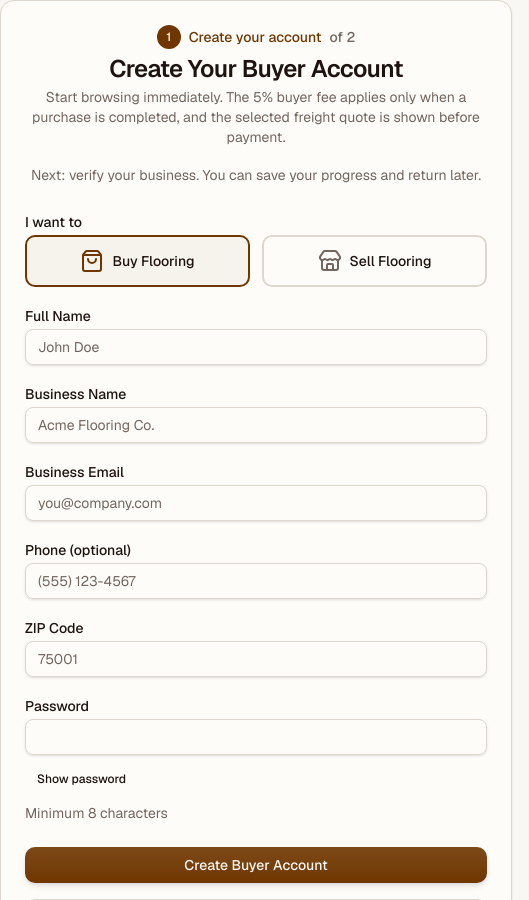
Test: RegisterForm › shows validation error for password shorter than 8 characters
Type "Jane Doe" into the field labelled "Full Name" at [256, 347], box [25,329,487,365]
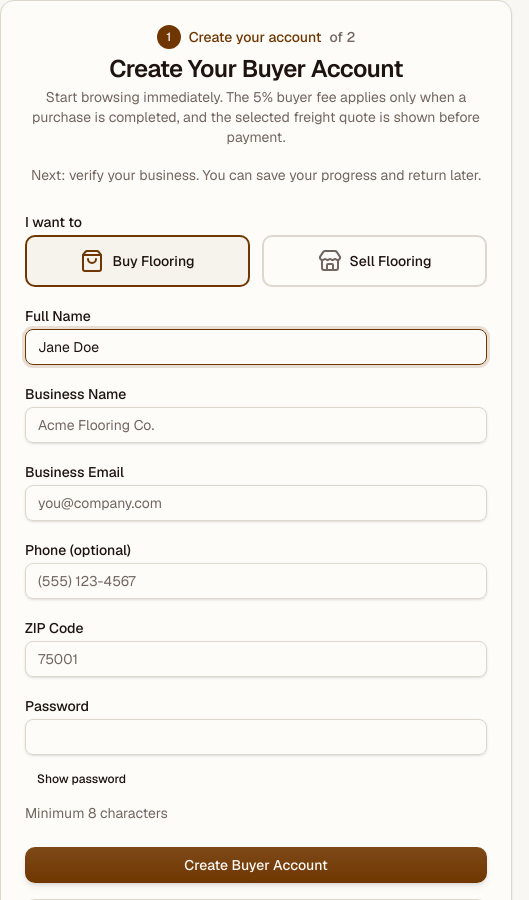
Type "Doe Lumber Co" into the field labelled "Business Name" at [256, 425], box [25,407,487,443]
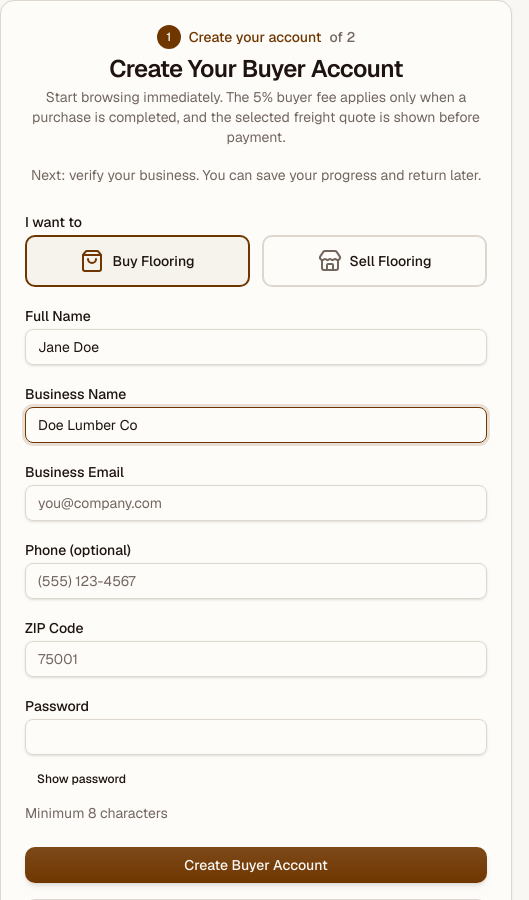
Type "jane@example.com" into the field labelled "Business Email" at [256, 503], box [25,485,487,521]
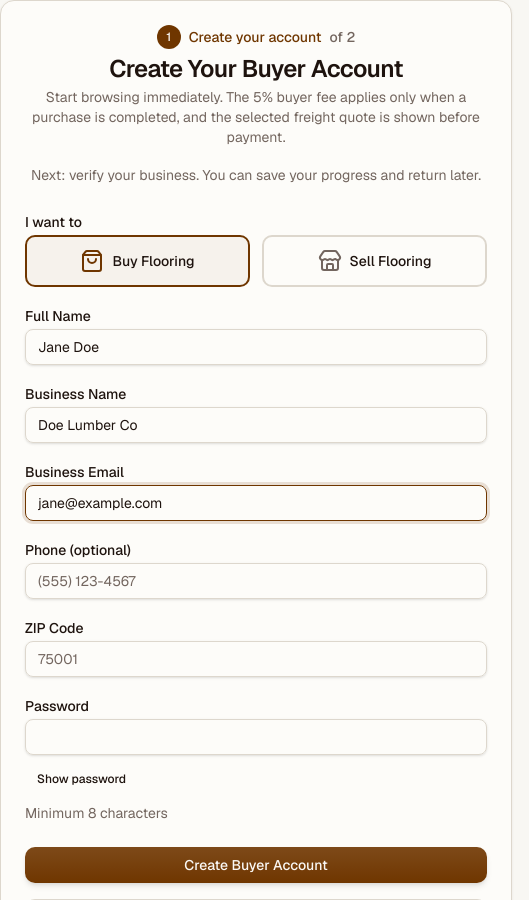
Type "97201" into the field labelled "ZIP Code" at [256, 659], box [25,641,487,677]
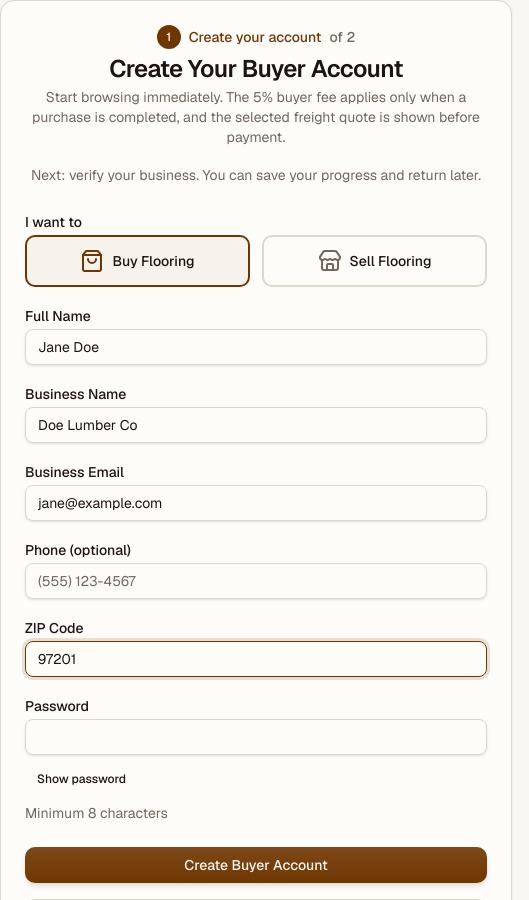
Type "short" into the password field labelled "Password" at [256, 737], box [25,719,487,755]
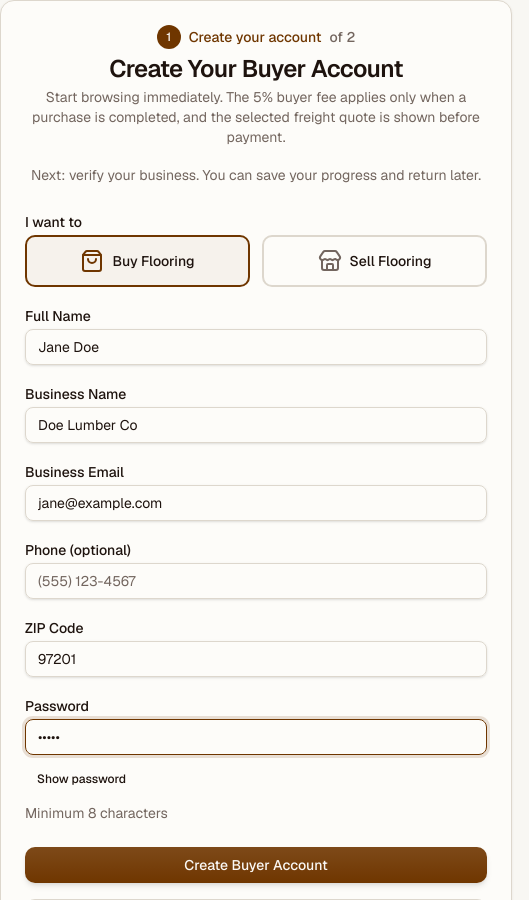
Click the button "Create Buyer Account" at [256, 865], box [25,847,487,883]
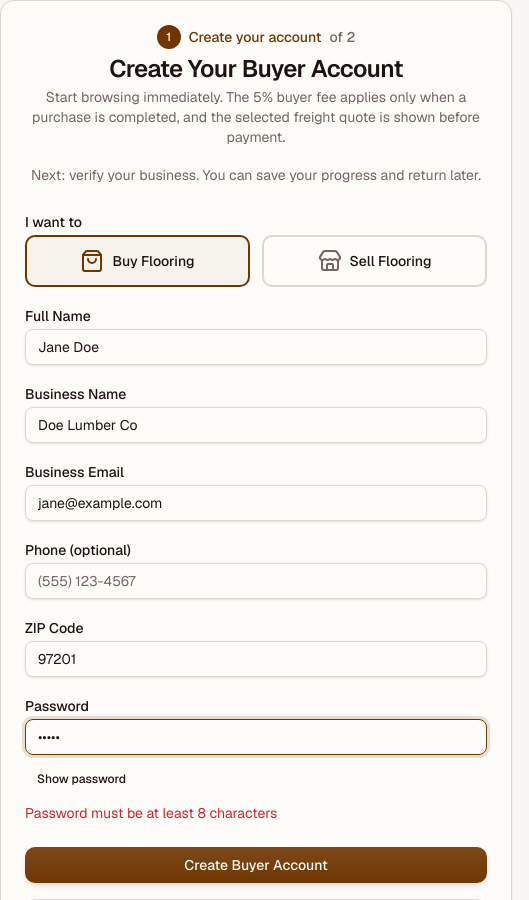
Expected: the text "Password must be at least 8 characters" is shown, [25,804,277,822]
